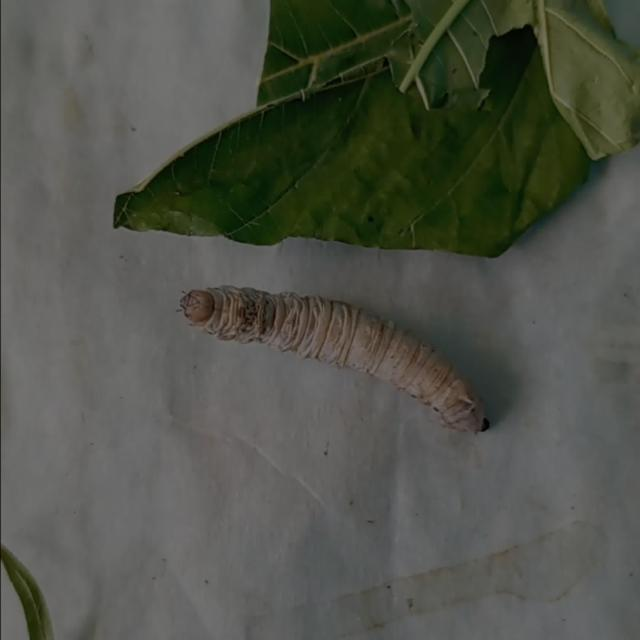Grasserie: (151, 267, 514, 469)
